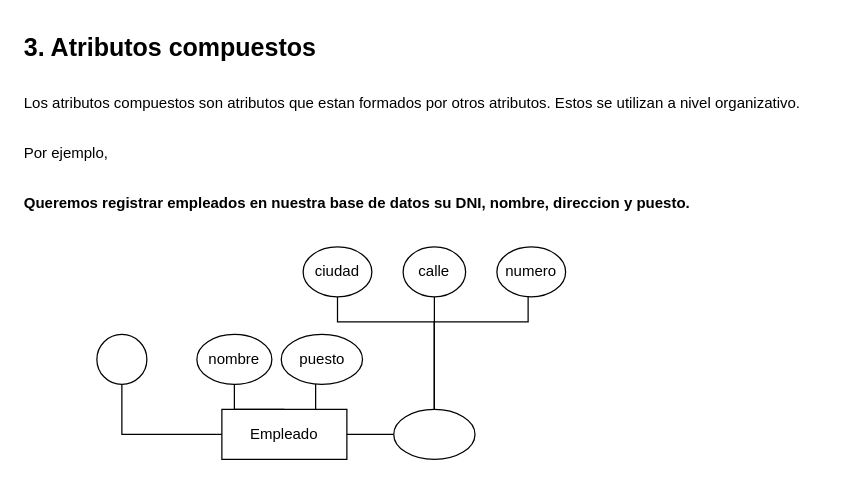
This 843x481 diagram has some shape labels left out. The centre of each missing label's shape, as x and y in pixels:
"direccion" goes at point 433,433.
"DNI" goes at point 121,358.
